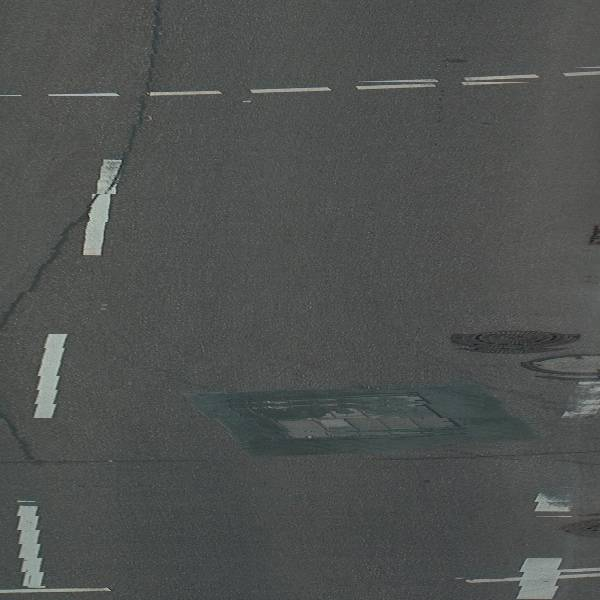road_damage: (173, 377, 553, 461), (1, 190, 97, 332), (117, 1, 166, 181), (396, 382, 478, 437), (1, 418, 60, 472), (367, 448, 600, 460)
